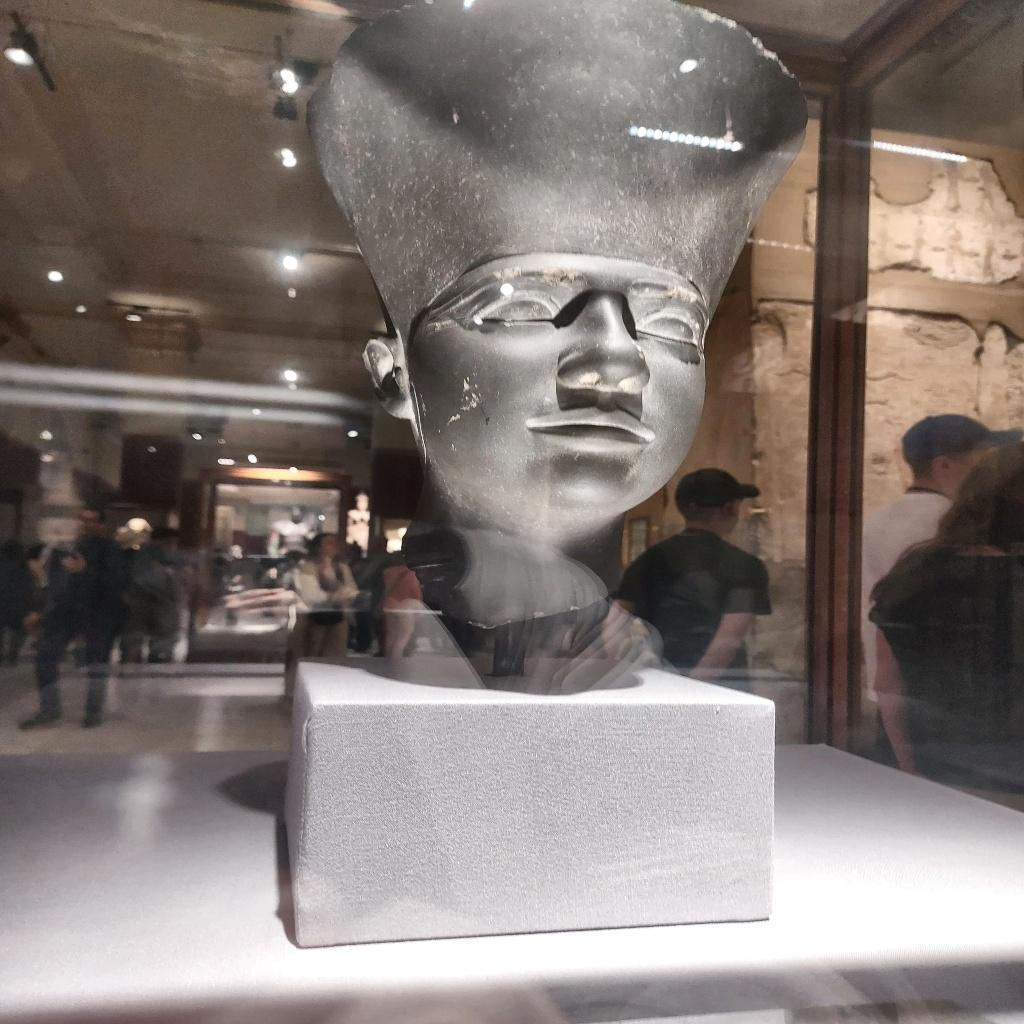Head of Userkaf: (301, 0, 811, 544)
